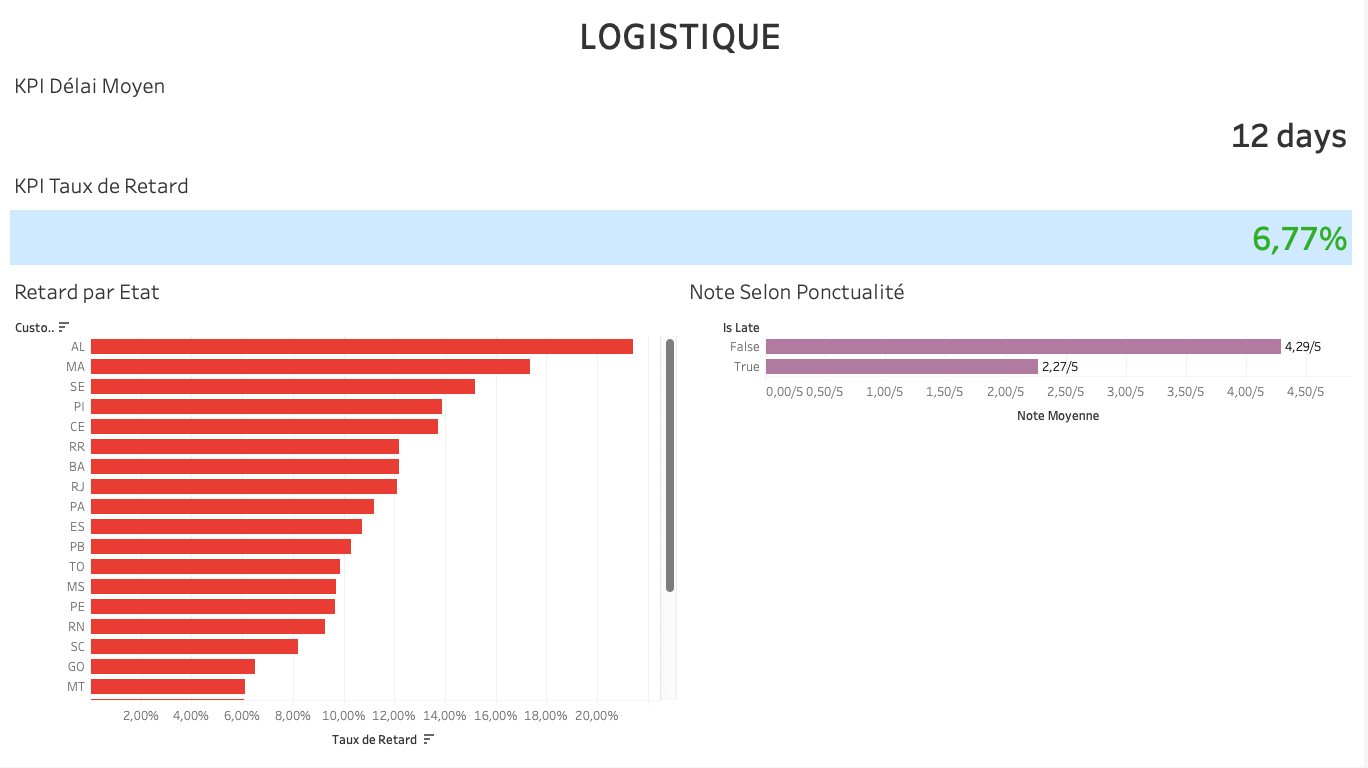

Layout of this report page (visuals, bound fields, positions):
{"tool":"tableau","page":{"name":"LOGISTIQUE","canvas":[1366,768],"ordinal":1},"visuals":[{"type":"title","box":[8,8,1350,56]},{"type":"worksheet","title":"KPI Délai Moyen","mark":"Automatic","box":[8,64,1350,100]},{"type":"worksheet","title":"KPI Taux de Retard","mark":"Automatic","box":[8,164,1350,106]},{"type":"worksheet","title":"Retard par Etat","mark":"Automatic","rows":["customer_state"],"cols":["Calculation_2879473304137734"],"box":[8,270,675,490]},{"type":"worksheet","title":"Note Selon Ponctualité","mark":"Automatic","rows":["is_late"],"cols":["Calculation_2879473303728131"],"box":[683,270,675,490]}]}

Visuals, with their boxes in screenshot pixels (x1, y1, x2, y2), scaled from the page's 1366x768 canvas onto the 1368x768 screenshot:
title: [left=8, top=8, right=1360, bottom=64]
"KPI Délai Moyen" worksheet: [left=8, top=64, right=1360, bottom=164]
"KPI Taux de Retard" worksheet: [left=8, top=164, right=1360, bottom=270]
"Retard par Etat" worksheet: [left=8, top=270, right=684, bottom=760]
"Note Selon Ponctualité" worksheet: [left=684, top=270, right=1360, bottom=760]
